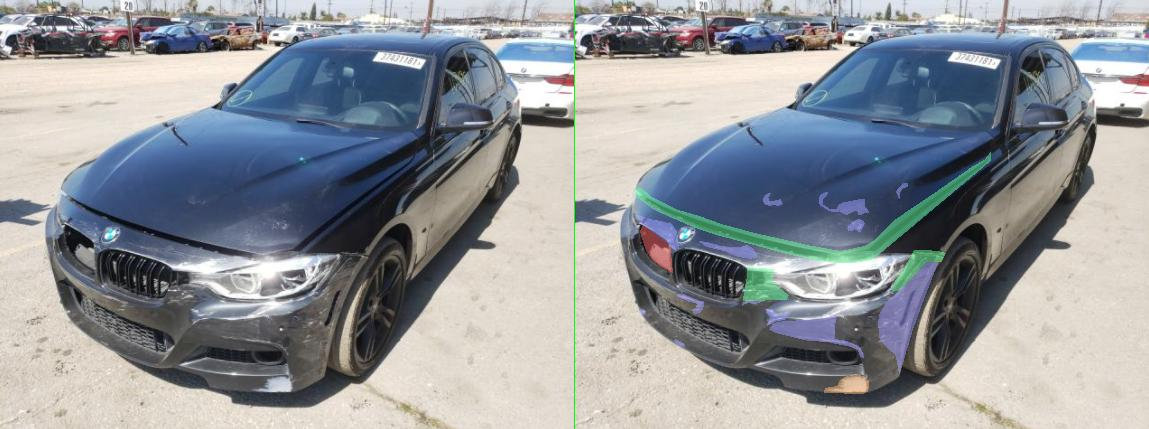Broken part: (122, 152, 831, 262), (635, 250, 741, 291), (336, 267, 426, 300)
Missing part: (130, 225, 194, 272)
Paint chip: (498, 374, 587, 393)
Scratch: (607, 256, 729, 373), (388, 315, 577, 357), (124, 215, 206, 249), (488, 192, 587, 214), (248, 241, 364, 258), (204, 294, 256, 313), (334, 289, 390, 305), (382, 309, 430, 325), (376, 193, 414, 205), (546, 219, 579, 231), (643, 183, 665, 198), (198, 339, 218, 346), (128, 309, 140, 314)
